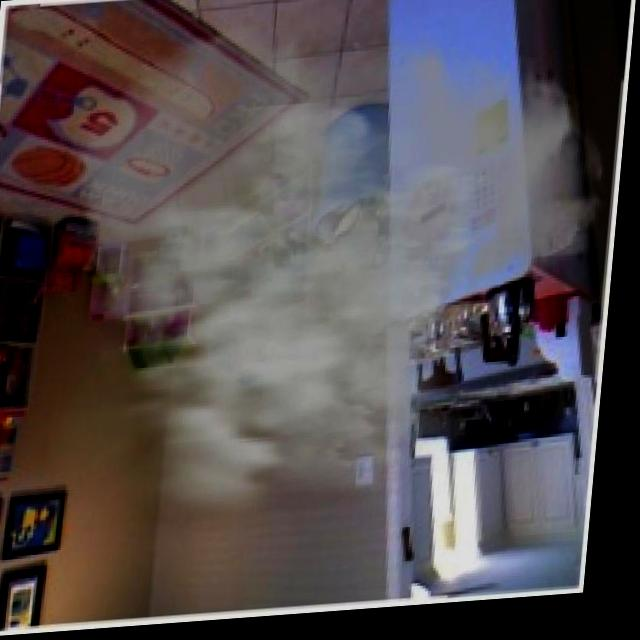Smoke: (38, 3, 626, 556)
